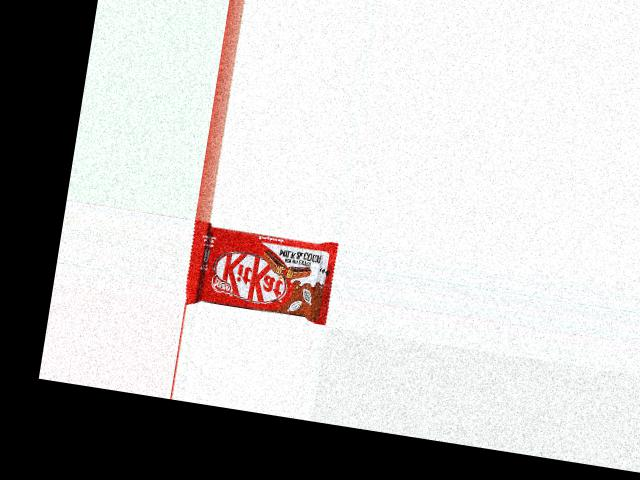chocolate: (183, 219, 340, 326)
